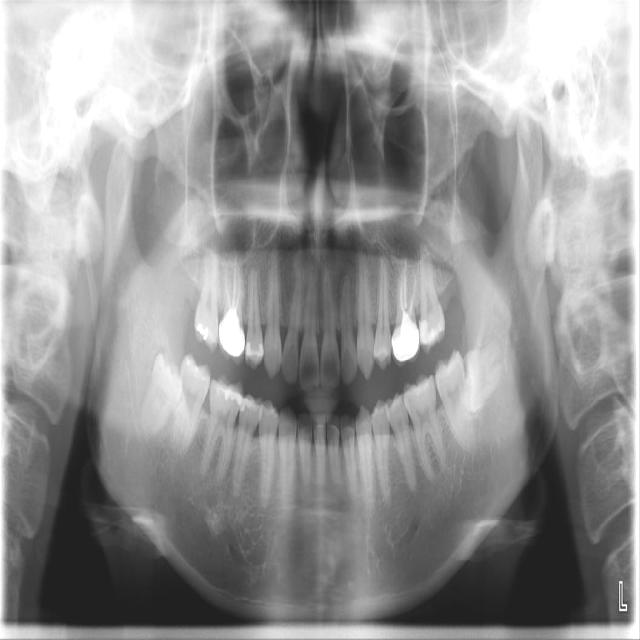Crown: (217, 317, 246, 365), (391, 323, 420, 369)
Filling: (224, 387, 243, 407), (194, 323, 207, 340)
Root Canal Treatment: (232, 256, 238, 302), (411, 270, 416, 312), (236, 264, 241, 305), (404, 262, 408, 309), (228, 261, 231, 302), (400, 274, 402, 312)
impacted tooth: (134, 353, 183, 436), (464, 333, 506, 410)
